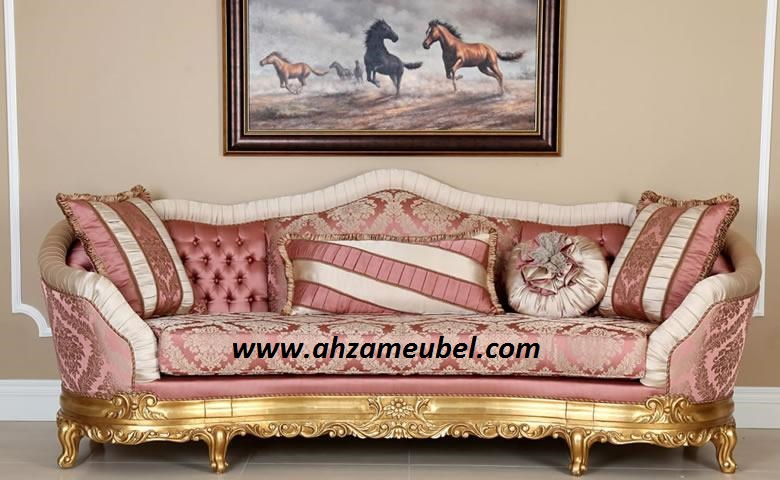Carving Chair: (38, 190, 748, 476)
